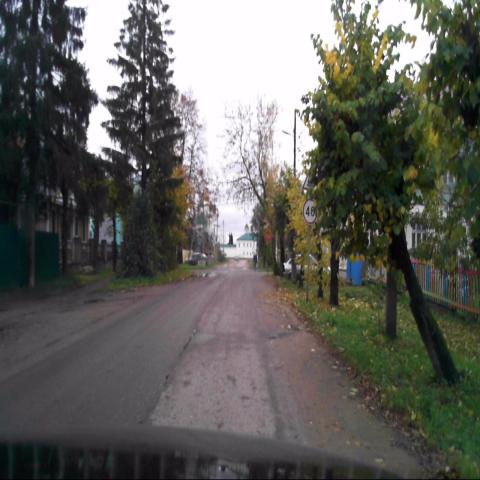3_24: (302, 199, 316, 225)
